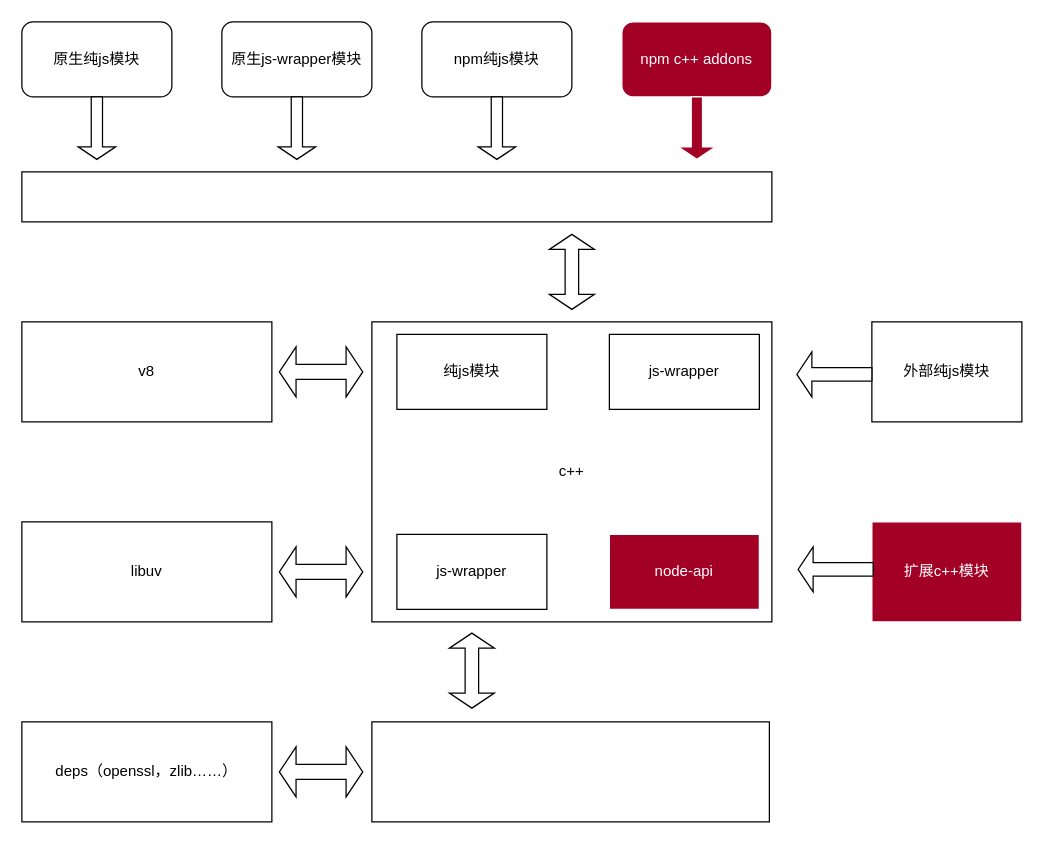
Image size: 1044x844. Some labels were removed from this diagram. Here are the shapes that lost their labels. From the top down, the centre of each, then its label:
pixel 396 196: require bingings
pixel 570 771: 原生c++模块（fs，buffer，net，http，os……）
